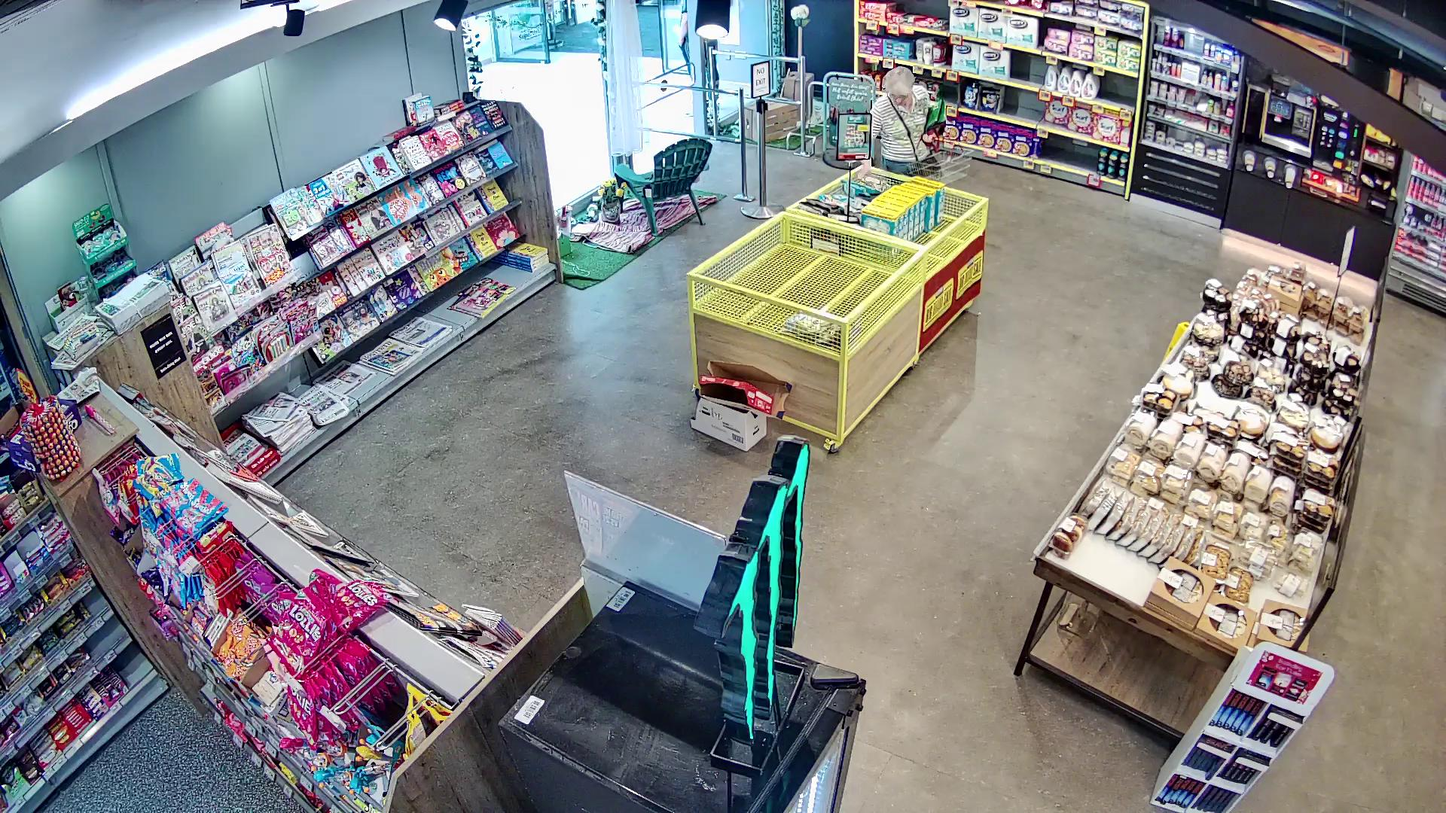empty-basket: (907, 137, 974, 185)
person: (855, 66, 930, 180)
person-with-basket-trolly-and-shopping-bag: (855, 66, 975, 186)
person-with-empty-shopping-bag-s-: (923, 98, 947, 151)
